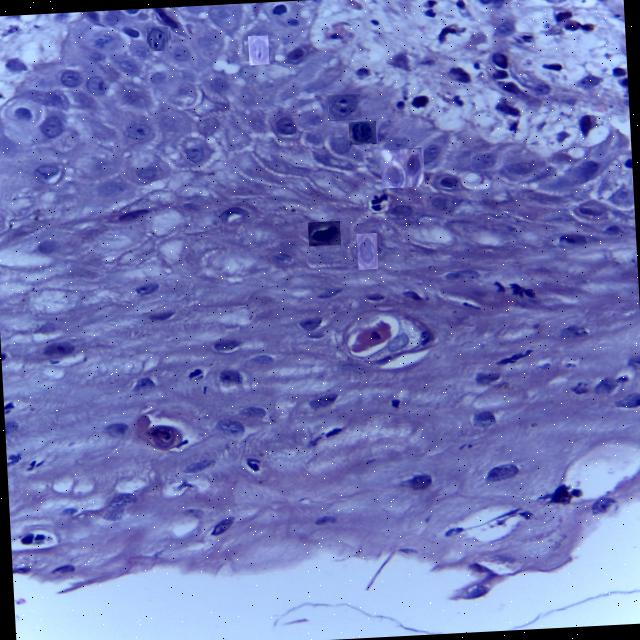Multiple Nucleol: (329, 94, 361, 120), (471, 151, 511, 170), (350, 121, 376, 144), (250, 36, 269, 64), (147, 27, 168, 50)
Nuclear Hyperchromatism: (382, 149, 424, 188), (309, 221, 341, 246), (358, 233, 378, 269)
